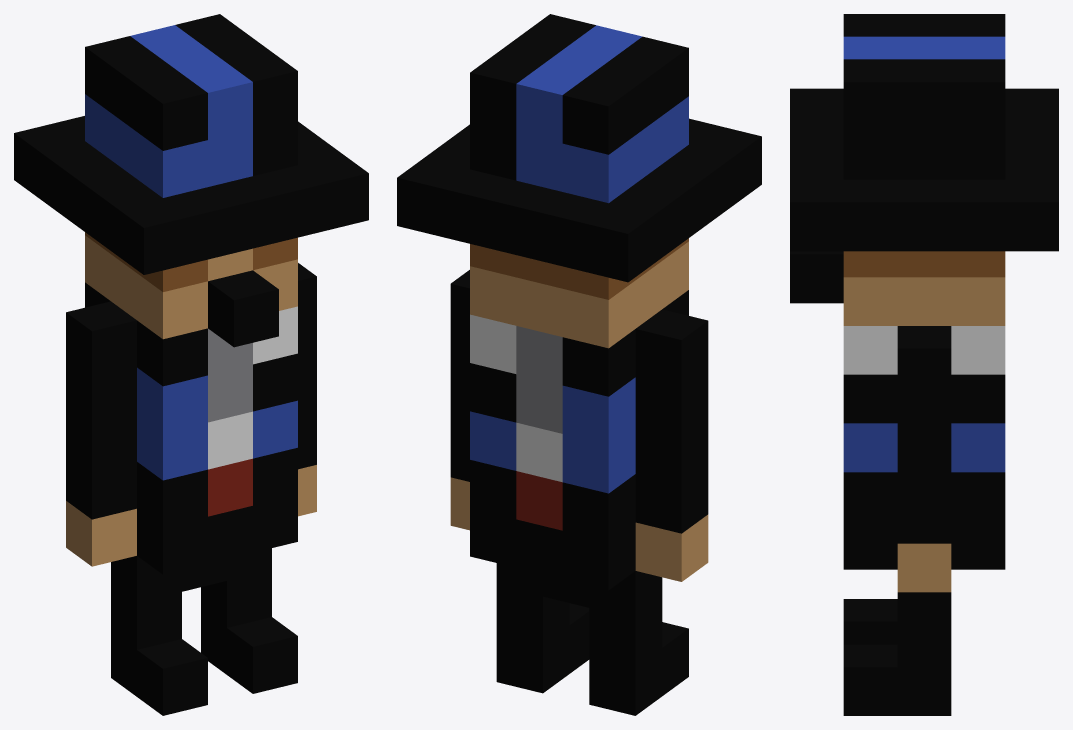
Rendered from diplomat.glb.
The picture shows the model from 3 angles, left to right: view 1: azimuth 30°, elevation 25°; view 2: azimuth 150°, elevation 25°; view 3: azimuth 270°, elevation 25°; orthographic projection. The views are drawn at different scales.
Parts seen in each view (by area): view 1: diplomat; view 2: diplomat; view 3: diplomat.
Part boxes in pixels (<box>): diplomat: <box>14,14,368,715</box>; diplomat: <box>397,14,761,715</box>; diplomat: <box>790,14,1058,715</box>.
Size of the model in its own units: 0.3125 by 0.8125 by 0.3125.
Materials: 1 (1 with a texture image).
